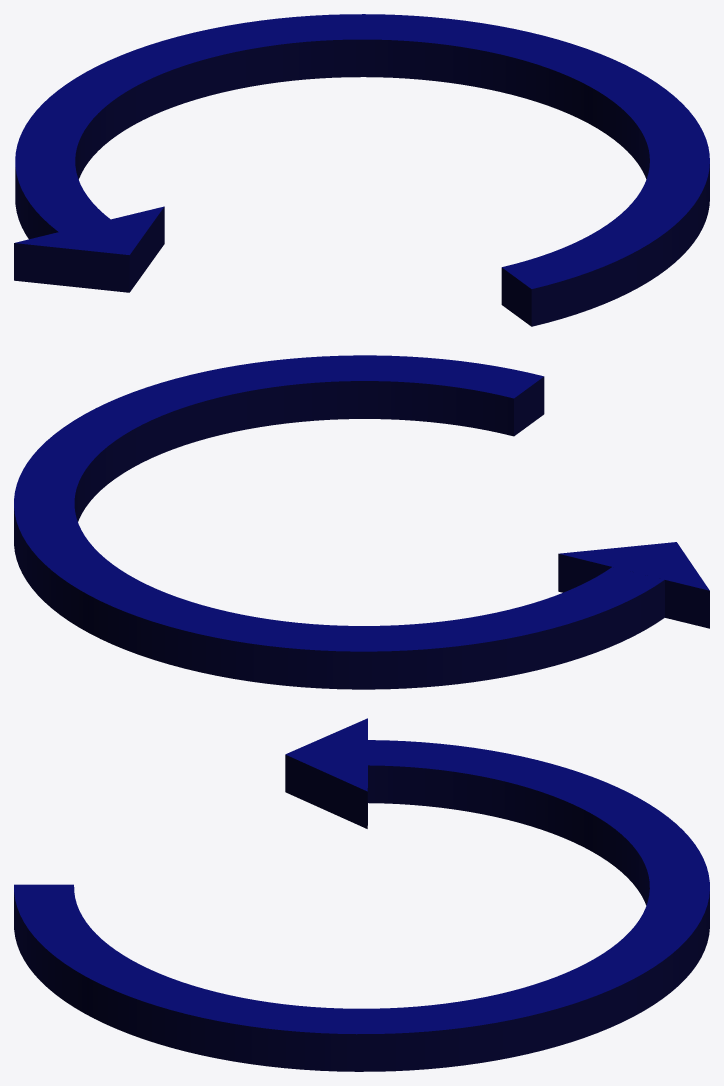
File: Round arrow.FBX
3 renders of one model, top to bottom at view 1: azimuth 30°, elevation 25°; view 2: azimuth 150°, elevation 25°; view 3: azimuth 270°, elevation 25°, orthographic.
Visible parts, largest first — view 1: Line004; view 2: Line004; view 3: Line004.
Boxes of the visible parts, box(x1,y1,x2,y2) form: Line004: box(14, 14, 709, 326); Line004: box(14, 355, 709, 689); Line004: box(14, 718, 709, 1071).
Size of the model in its own units: 62.93 by 3.5 by 58.57.
